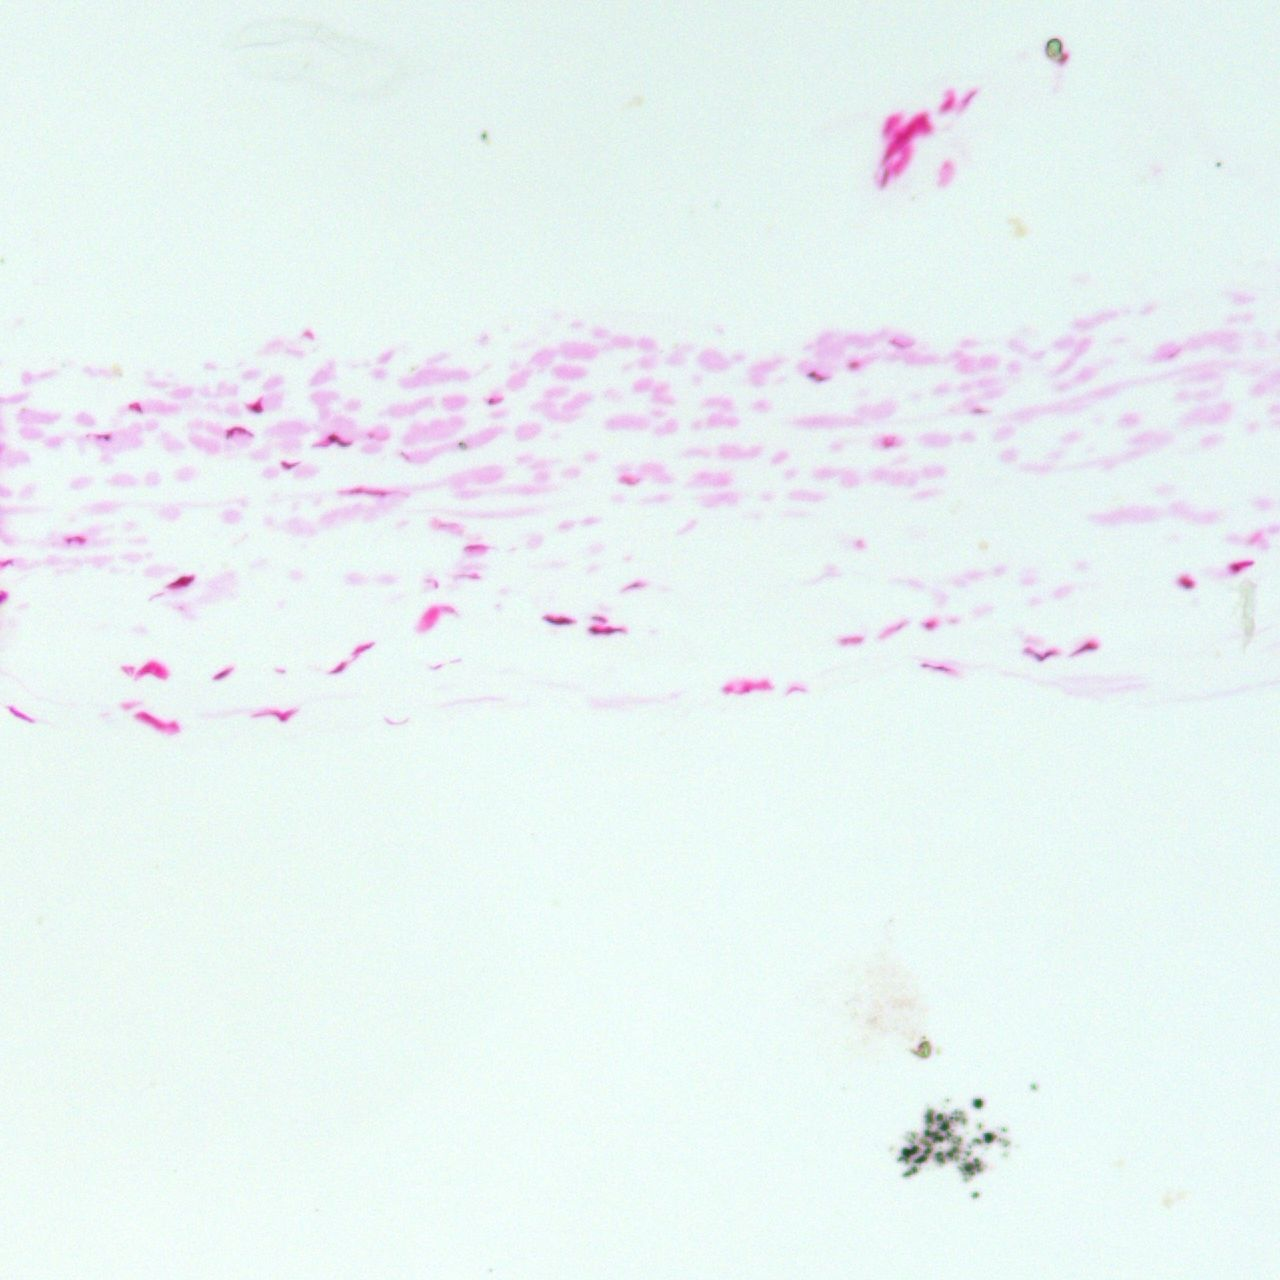dust: (908, 1035, 930, 1059), (805, 367, 828, 387), (1045, 37, 1065, 60), (969, 405, 996, 417), (949, 1109, 967, 1125), (902, 1129, 922, 1143), (899, 1166, 920, 1179), (972, 1154, 985, 1172), (972, 1094, 985, 1112), (935, 1149, 947, 1168), (982, 1129, 996, 1144), (950, 1145, 961, 1164), (924, 1107, 936, 1124), (949, 1132, 964, 1145), (966, 1136, 981, 1149), (999, 1138, 1011, 1153), (900, 1144, 918, 1153), (923, 1137, 933, 1153), (886, 1142, 898, 1155), (455, 438, 467, 451), (480, 128, 489, 144), (970, 1191, 984, 1201), (939, 1121, 951, 1132), (962, 1172, 975, 1181), (962, 1162, 973, 1172), (963, 1149, 974, 1159), (1000, 1122, 1010, 1133), (926, 1127, 939, 1135), (942, 1096, 953, 1105), (897, 1154, 910, 1161), (931, 1137, 944, 1144), (917, 1156, 928, 1164), (935, 1111, 943, 1120), (1029, 1080, 1036, 1090), (975, 1122, 983, 1130), (1215, 159, 1221, 168)
nucleus-FG: (884, 117, 918, 156), (338, 487, 407, 496), (167, 572, 195, 593), (8, 705, 35, 724), (1071, 639, 1097, 658), (958, 88, 979, 110), (937, 92, 957, 115), (1025, 647, 1055, 662), (224, 424, 251, 440), (351, 639, 375, 657), (918, 661, 951, 674), (541, 613, 576, 624), (622, 579, 649, 593), (1228, 558, 1253, 573), (325, 434, 353, 447), (588, 625, 627, 634), (213, 665, 233, 682), (330, 660, 348, 677), (918, 111, 931, 133), (273, 709, 293, 722), (720, 686, 751, 694), (879, 168, 891, 188), (137, 662, 154, 676), (249, 397, 264, 412), (840, 637, 864, 646), (63, 536, 86, 544), (464, 544, 488, 551), (135, 713, 153, 722), (279, 461, 299, 469), (1181, 577, 1195, 588), (883, 440, 898, 449), (129, 402, 142, 412), (487, 397, 503, 404), (923, 621, 934, 629)
